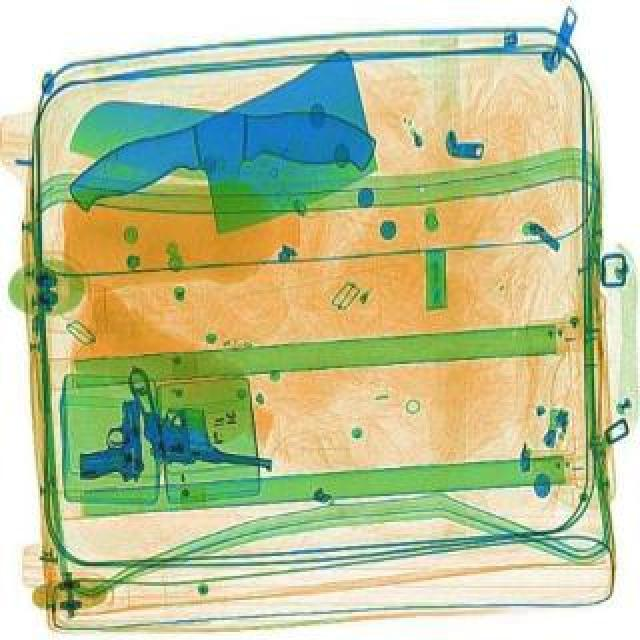gun: (94, 362, 282, 502), (66, 394, 148, 488)
knife: (44, 44, 408, 282), (66, 84, 386, 200)
